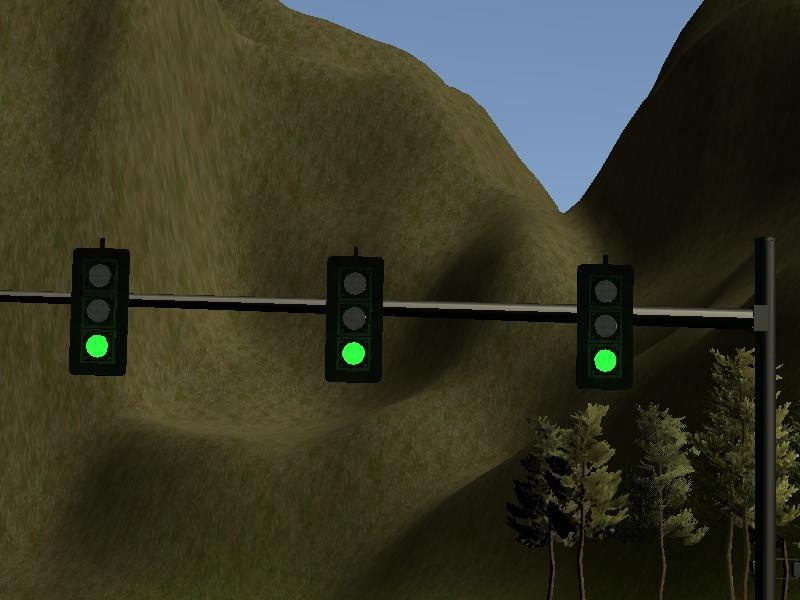traffic_light_green: (1, 238, 695, 390)
